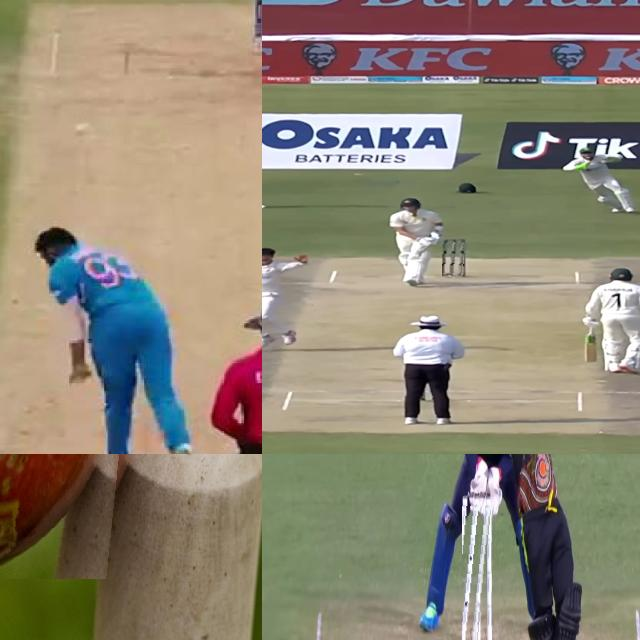Cricket ball: (0, 454, 150, 578), (74, 120, 90, 139)
Stumps: (462, 491, 493, 640), (442, 240, 467, 278)
